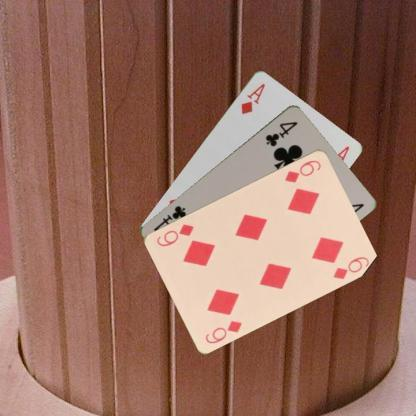4c: (262, 118, 300, 148)
6d: (282, 156, 323, 184), (202, 317, 243, 344)
Ad: (237, 80, 266, 116)
